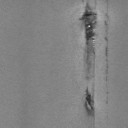slag inclusion: (78, 2, 98, 66), (85, 87, 94, 114), (104, 36, 108, 57)
